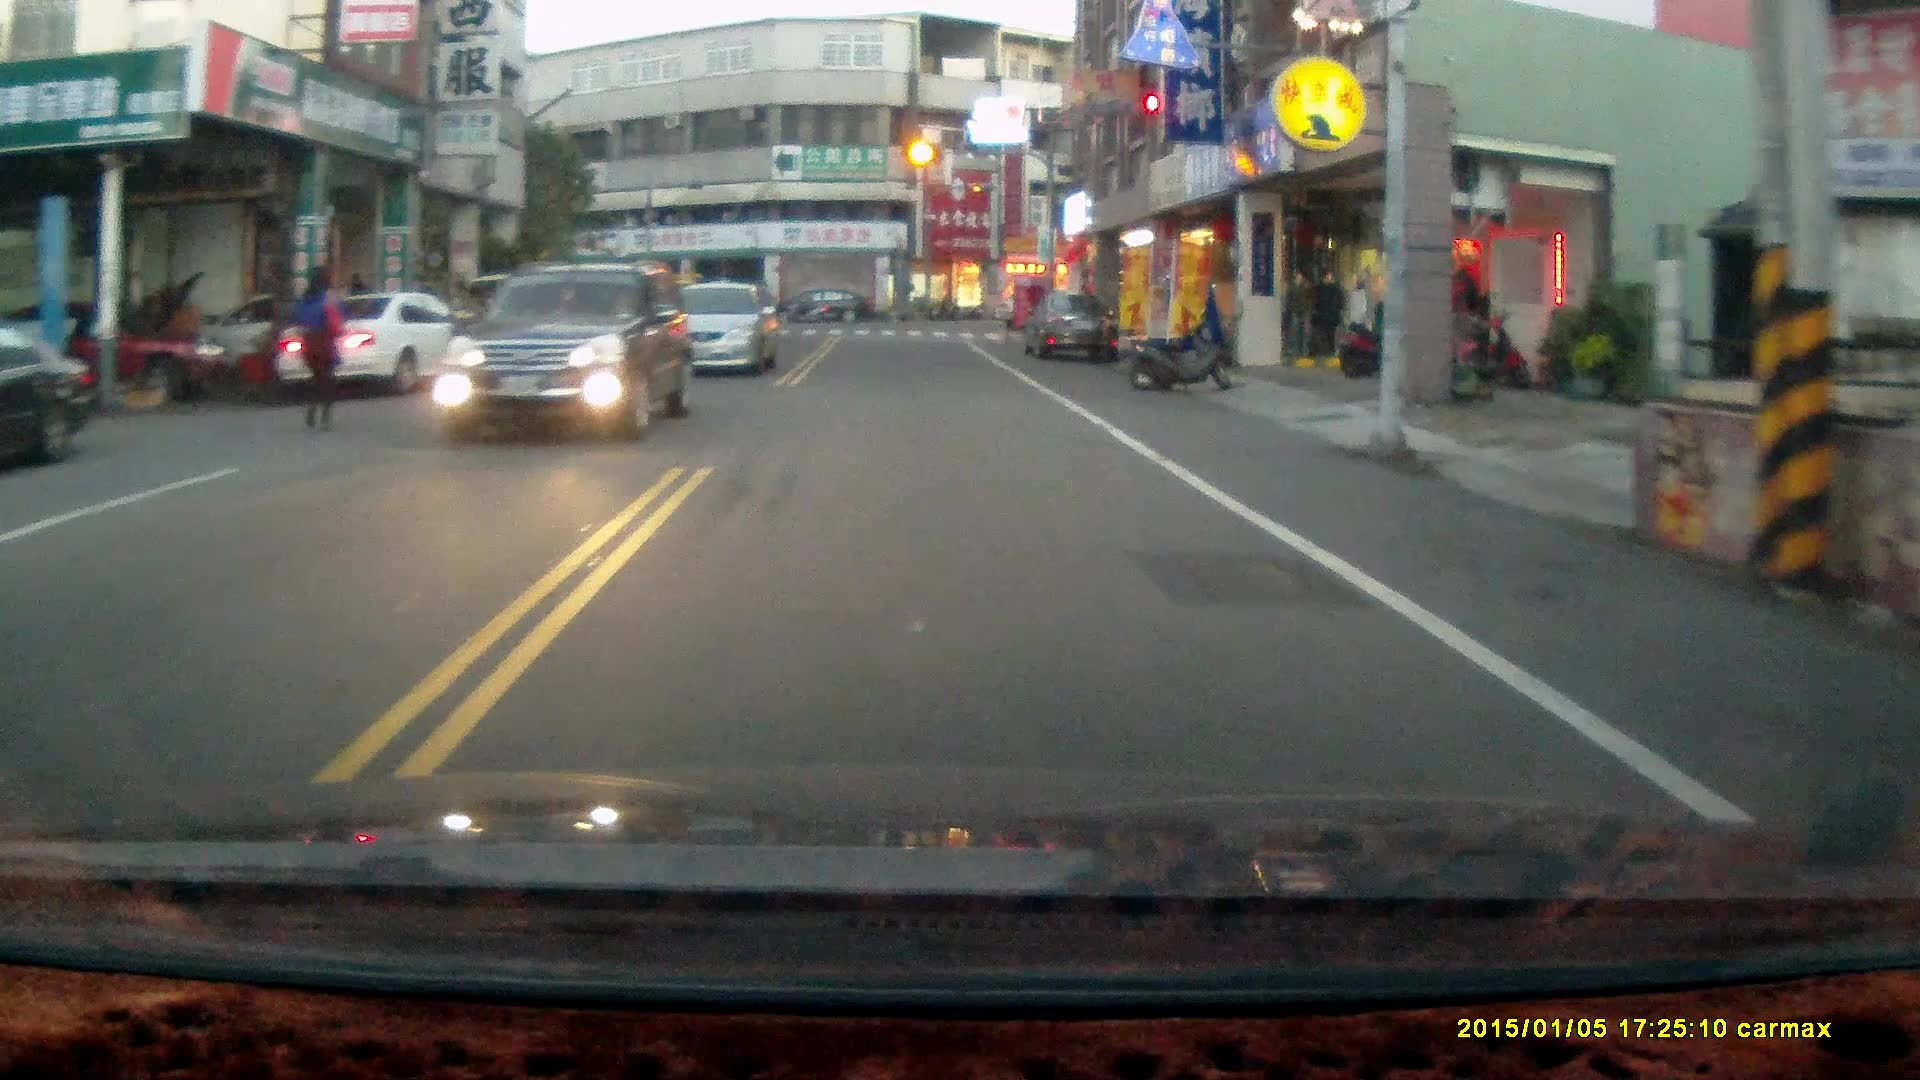pedestrian: (294, 263, 342, 434)
vehicle: (442, 261, 694, 443), (267, 292, 507, 400), (1, 317, 102, 463), (652, 279, 780, 377), (1028, 291, 1130, 371), (775, 287, 879, 330)
